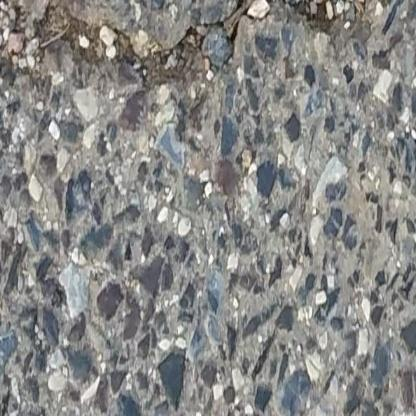Cracks: (0, 0, 364, 92)
